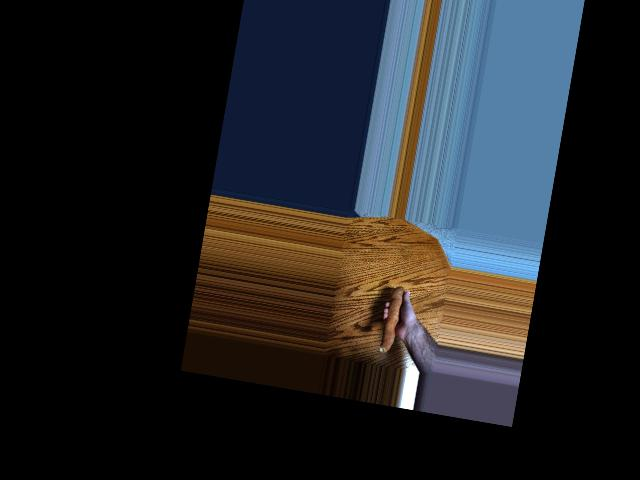sweet_potato: (379, 287, 410, 356)
